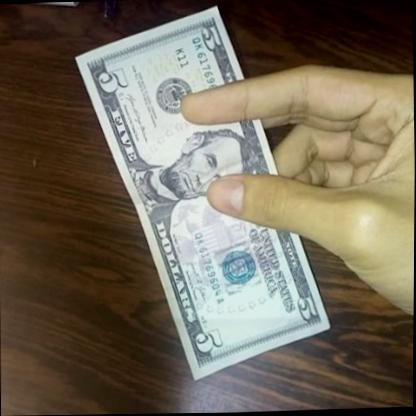five-front: (76, 0, 330, 389)
